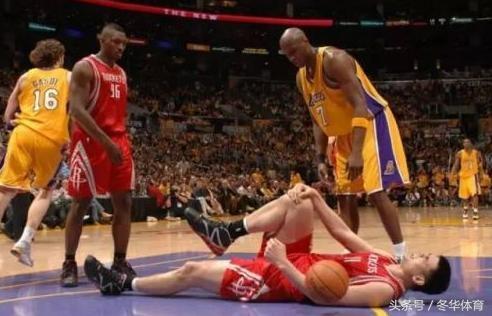falling: (80, 172, 455, 307)
